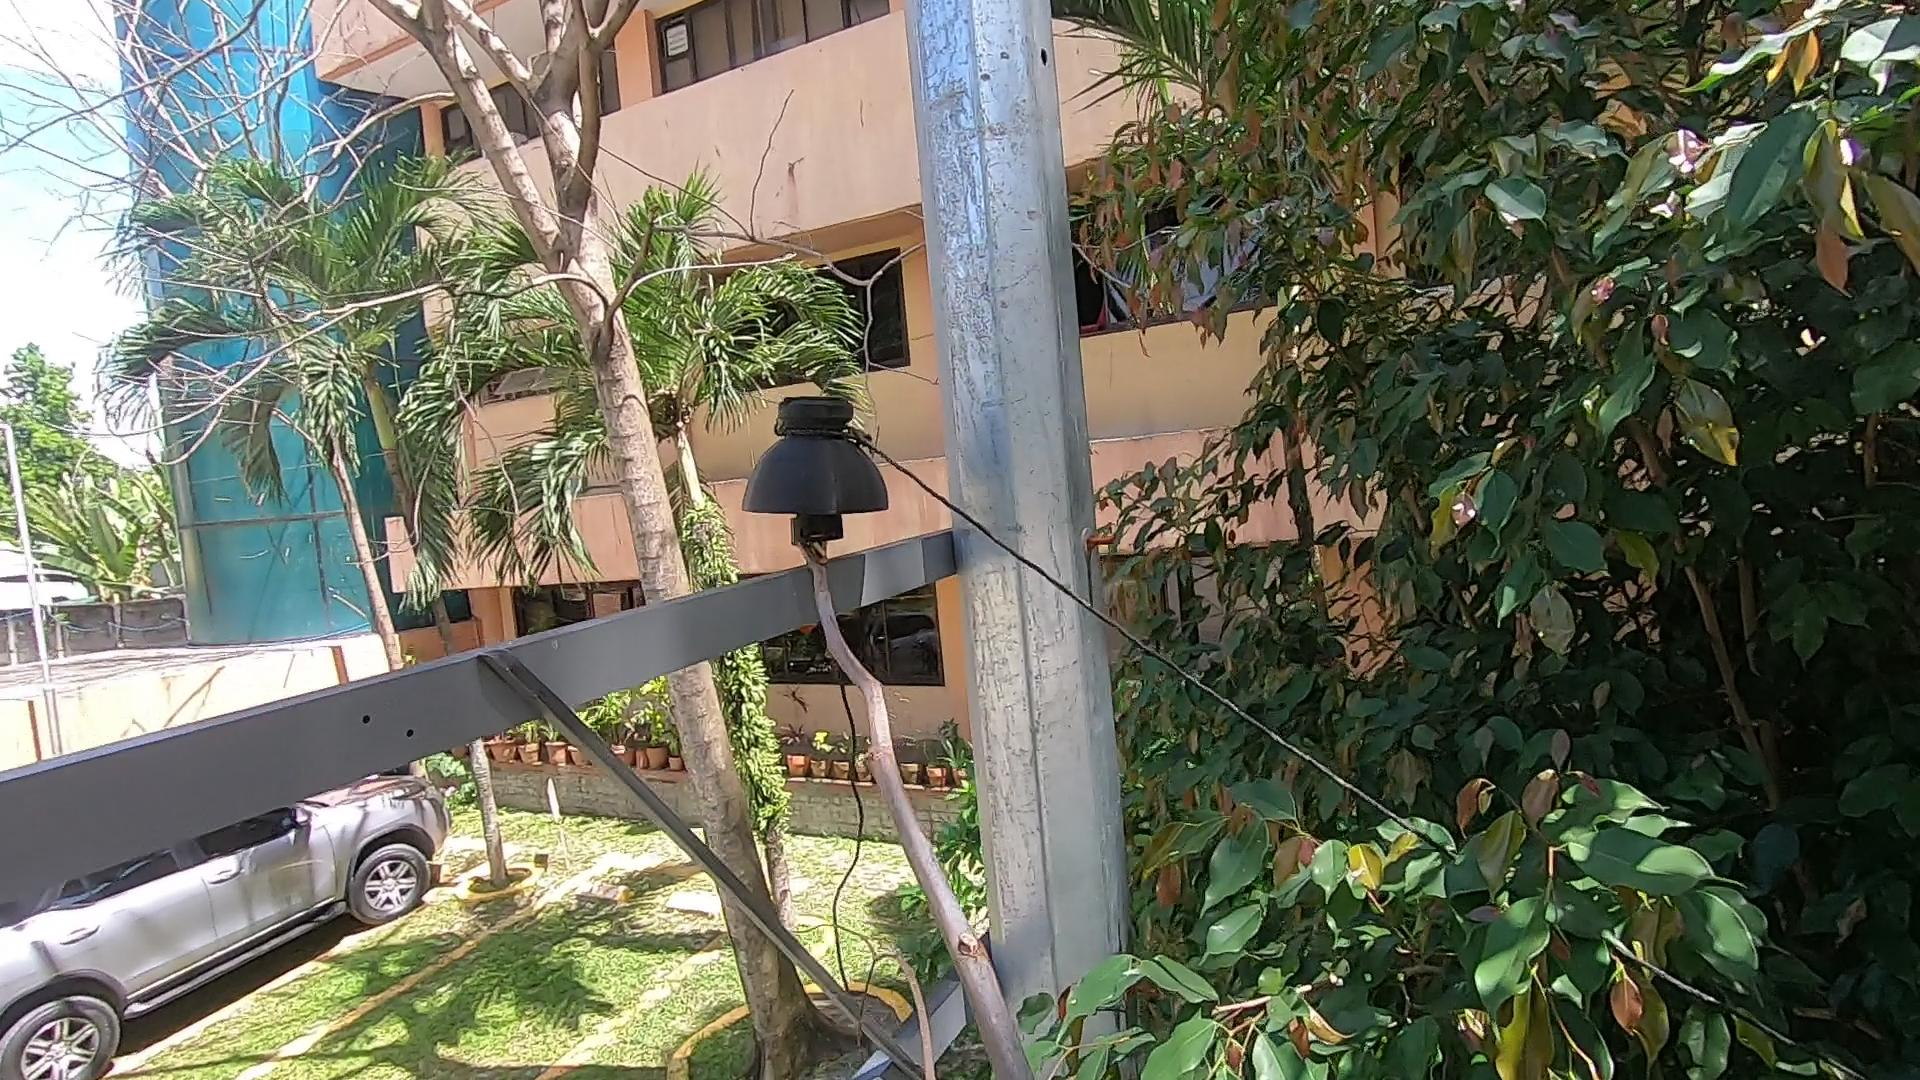branch with leaves: (1004, 943, 1183, 1080)
tree branch: (720, 438, 1089, 1080)
